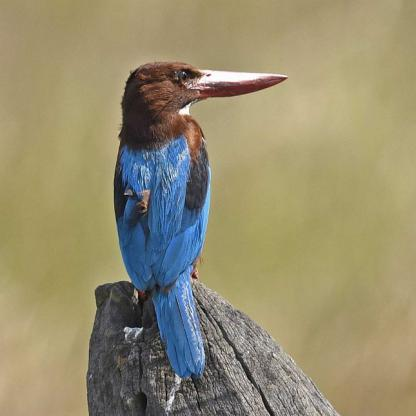Burung: (112, 61, 288, 377)
